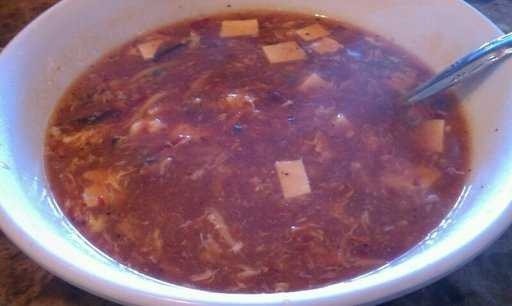soup: (49, 10, 479, 291)
